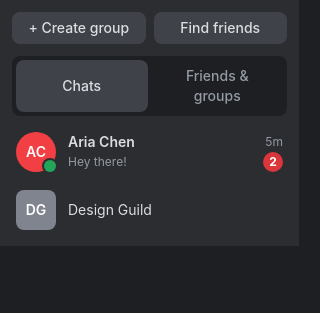
Test: ChatList › shows empty state for friends when list is empty
Step 1. Click the tab "Friends & groups" → (217, 86), box [152, 60, 283, 112]
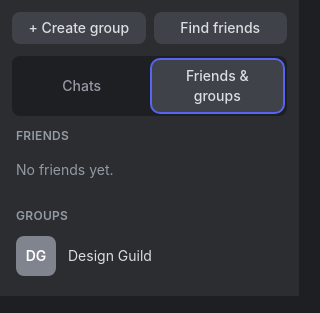
Expected: the text "No friends yet." is shown, [16, 161, 114, 178]
